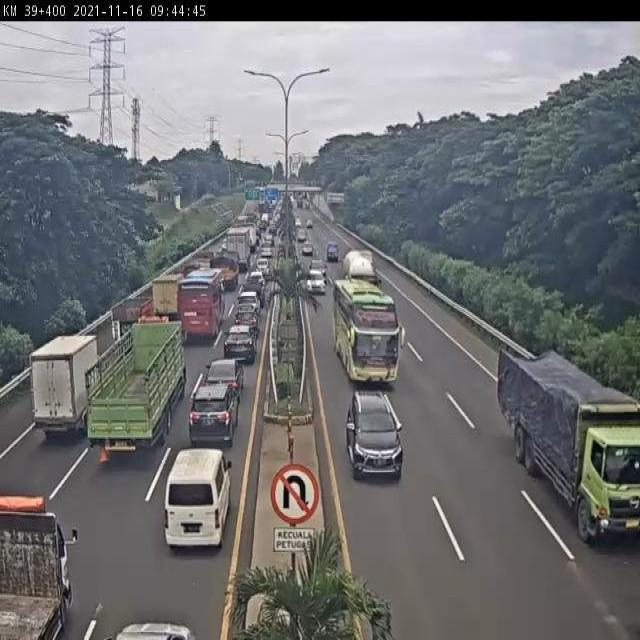big bus: (334, 274, 405, 386), (176, 273, 225, 344)
car: (346, 388, 403, 477), (188, 386, 236, 451), (204, 361, 245, 403), (221, 329, 253, 368), (232, 308, 259, 335), (236, 288, 261, 316)
small bus: (160, 450, 229, 550)
small truck: (149, 274, 183, 330)
truck-l-: (497, 348, 640, 540), (93, 323, 186, 452)
truck-m-: (31, 331, 99, 436), (105, 300, 152, 343)
